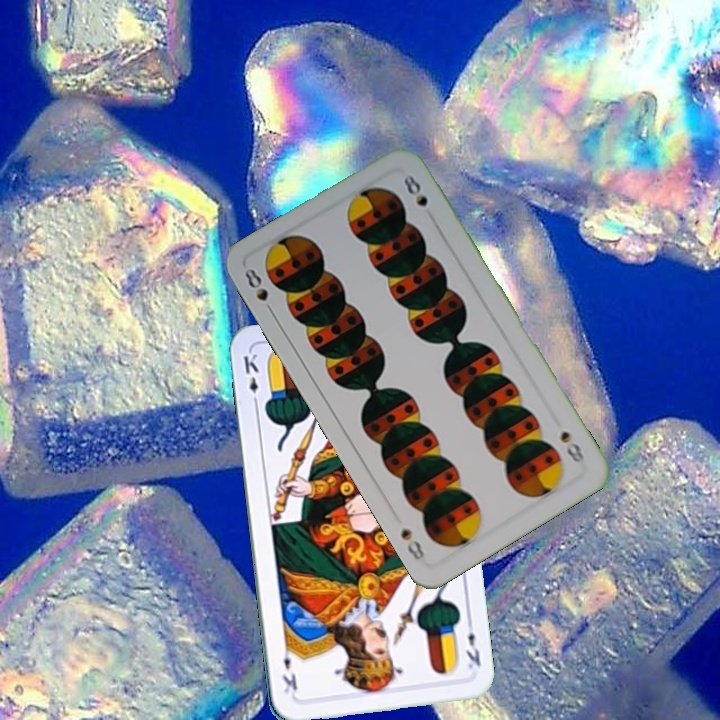EK: (239, 349, 262, 409), (462, 617, 483, 671)
S8: (240, 263, 278, 318), (556, 426, 588, 465)
